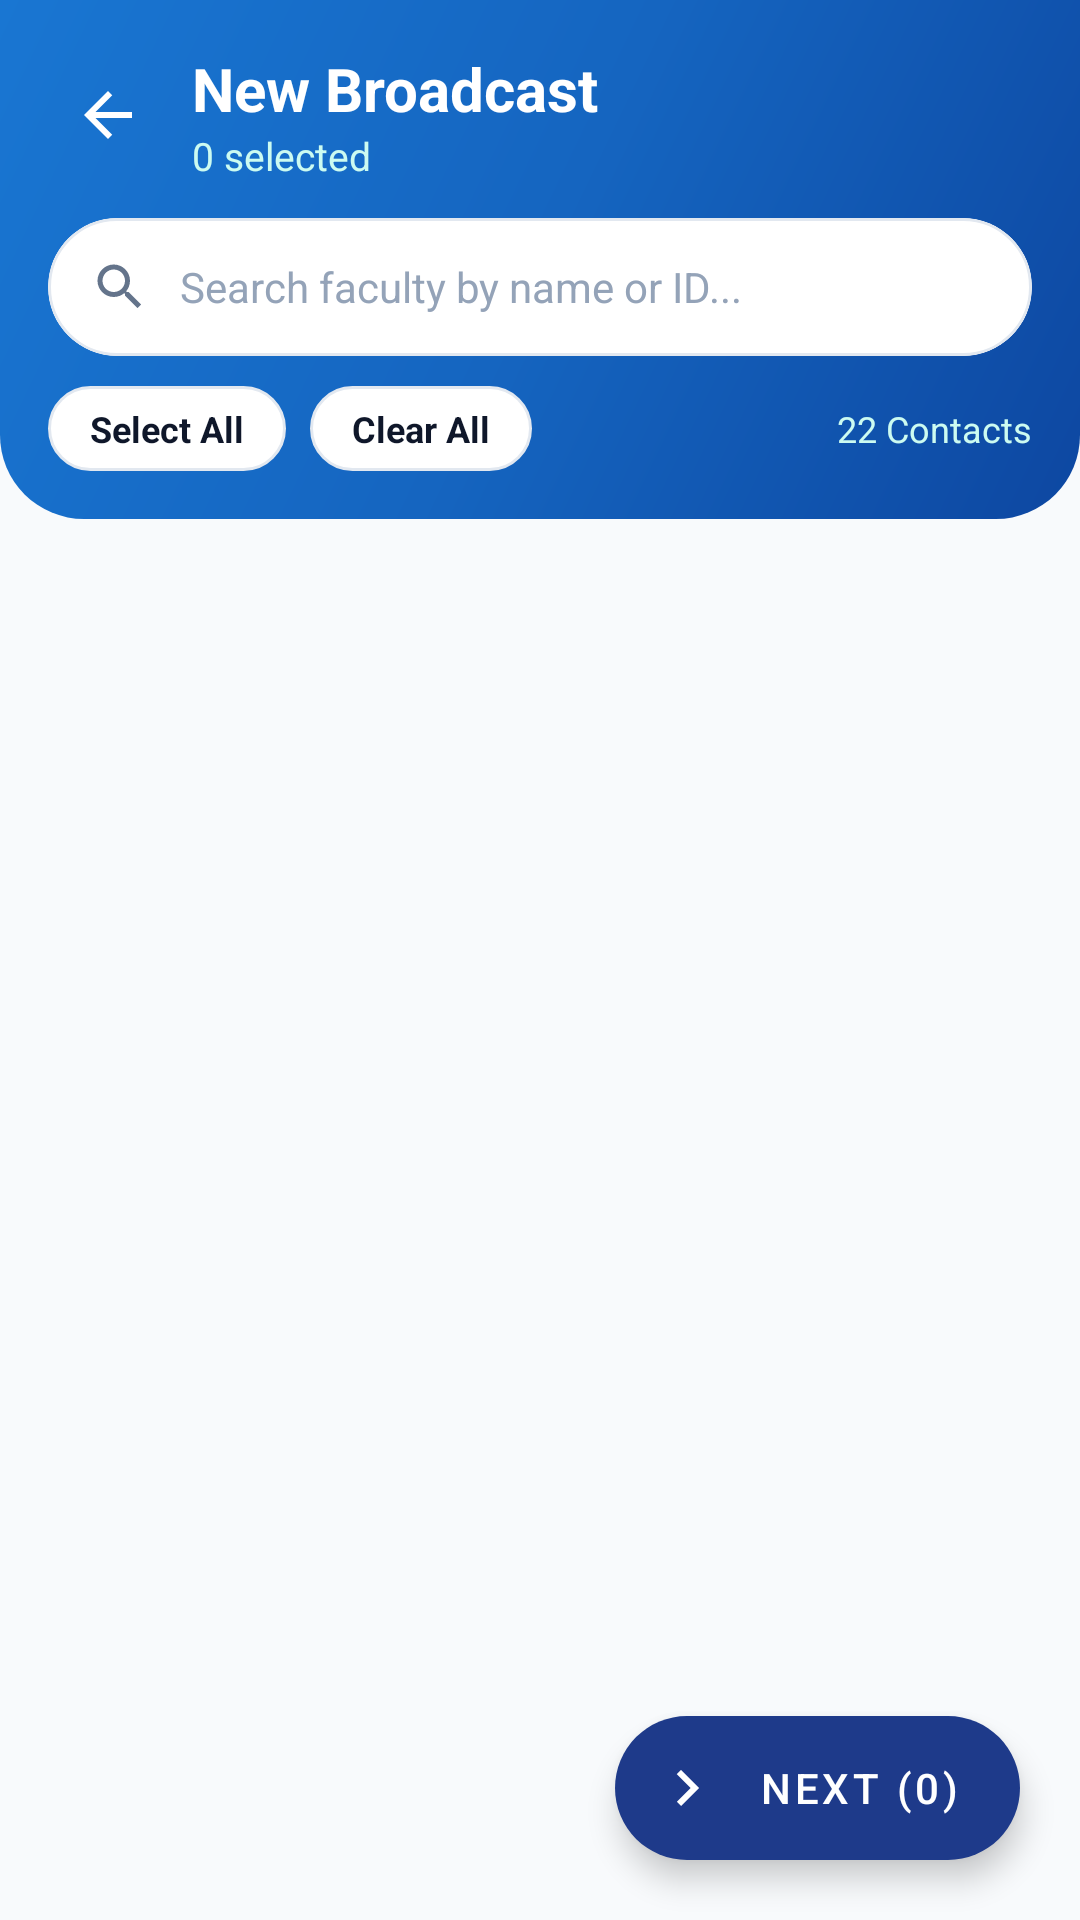

Point at icon controls on the screen. Image size 1080x1920, points as (x=x, y=y).
Back: (x=108, y=115)
